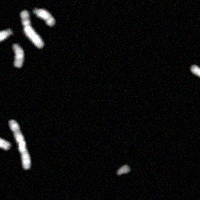chromosome: (7, 120, 30, 170), (19, 10, 44, 47), (32, 7, 55, 27), (13, 42, 24, 67), (0, 28, 13, 44), (190, 64, 200, 84), (0, 136, 10, 151), (116, 164, 129, 175)
